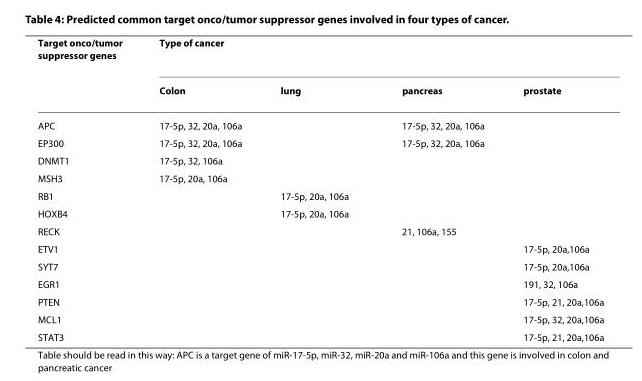table: (36, 36, 603, 342)
table column: (374, 36, 503, 342), (140, 36, 260, 342), (260, 36, 374, 342), (36, 36, 140, 342), (503, 36, 603, 342)
table column header: (36, 36, 603, 107)
table row: (36, 36, 603, 72), (36, 72, 603, 107), (36, 107, 603, 134), (36, 151, 603, 169), (36, 186, 603, 204), (36, 204, 603, 222), (36, 239, 603, 257), (36, 257, 603, 275), (36, 292, 603, 310), (36, 134, 603, 151), (36, 169, 603, 186), (36, 222, 603, 239), (36, 275, 603, 292), (36, 310, 603, 327), (36, 327, 603, 342)
table spanning cell: (140, 36, 603, 72), (36, 36, 140, 107)
